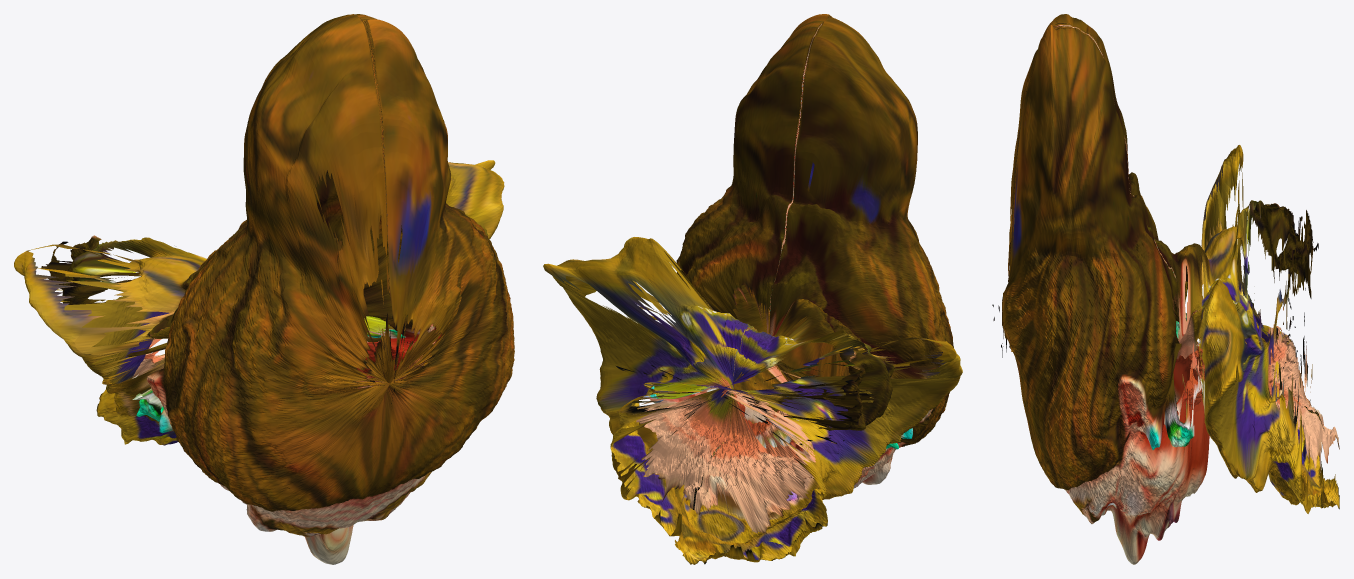
The picture shows the model from 3 angles, left to right: view 1: azimuth 30°, elevation 25°; view 2: azimuth 150°, elevation 25°; view 3: azimuth 270°, elevation 25°; orthographic projection. The views are drawn at different scales.
Visible parts, largest first — view 1: geometry_0; view 2: geometry_0; view 3: geometry_0.
Part boxes in pixels (x1,y1,x2,y2): geometry_0: [14, 14, 514, 564]; geometry_0: [543, 14, 962, 564]; geometry_0: [992, 14, 1339, 564].
Bounding box in the file's own units: 1.43 × 1.65 × 0.9775.
1 material, 1 textured.
